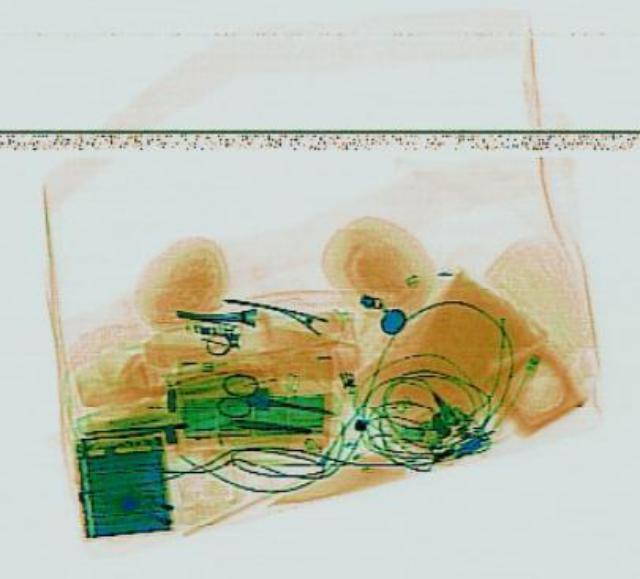Scissors: (211, 369, 337, 430)
